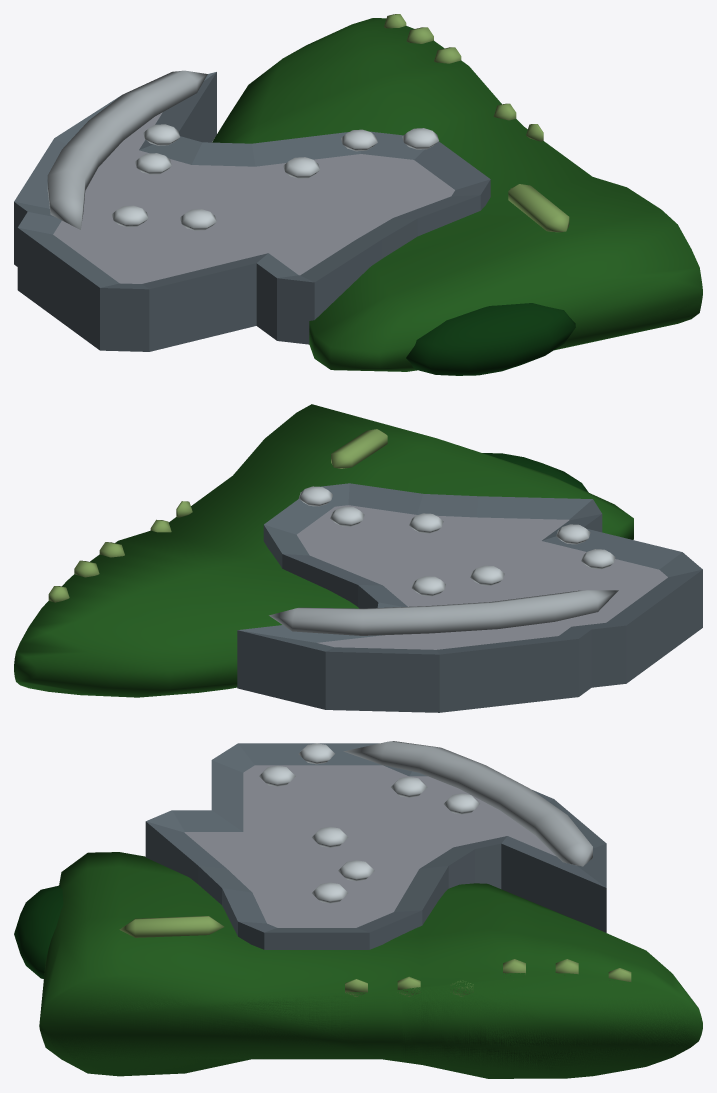
Rendered from newshh-230.glb.
The picture shows the model from 3 angles, top to bottom: view 1: azimuth 30°, elevation 25°; view 2: azimuth 150°, elevation 25°; view 3: azimuth 270°, elevation 25°; orthographic projection. The views are drawn at different scales.
Visible parts, largest first — view 1: newshh-230; view 2: newshh-230; view 3: newshh-230.
Boxes of the visible parts, x1,y1,x2,y2 form: newshh-230: (14,14,702,375); newshh-230: (14,404,702,712); newshh-230: (14,741,702,1078).
Bounding box in the file's own units: 1.75 × 0.4602 × 2.18.
